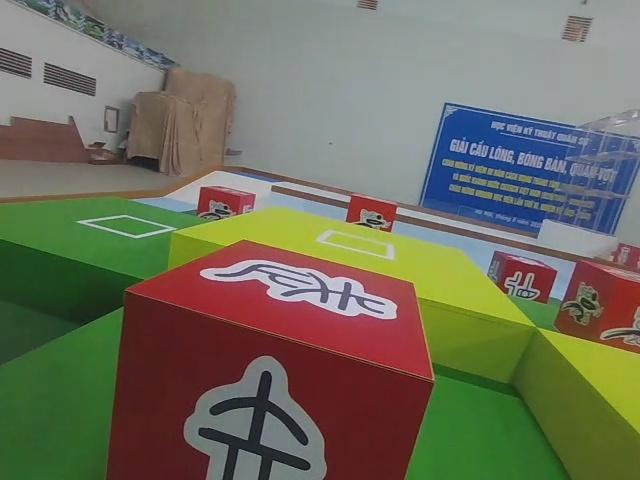R1: (552, 254, 640, 351), (190, 180, 258, 223), (341, 188, 400, 232)
R2 Fake: (104, 234, 440, 480)
R2 Real: (485, 247, 558, 307)
